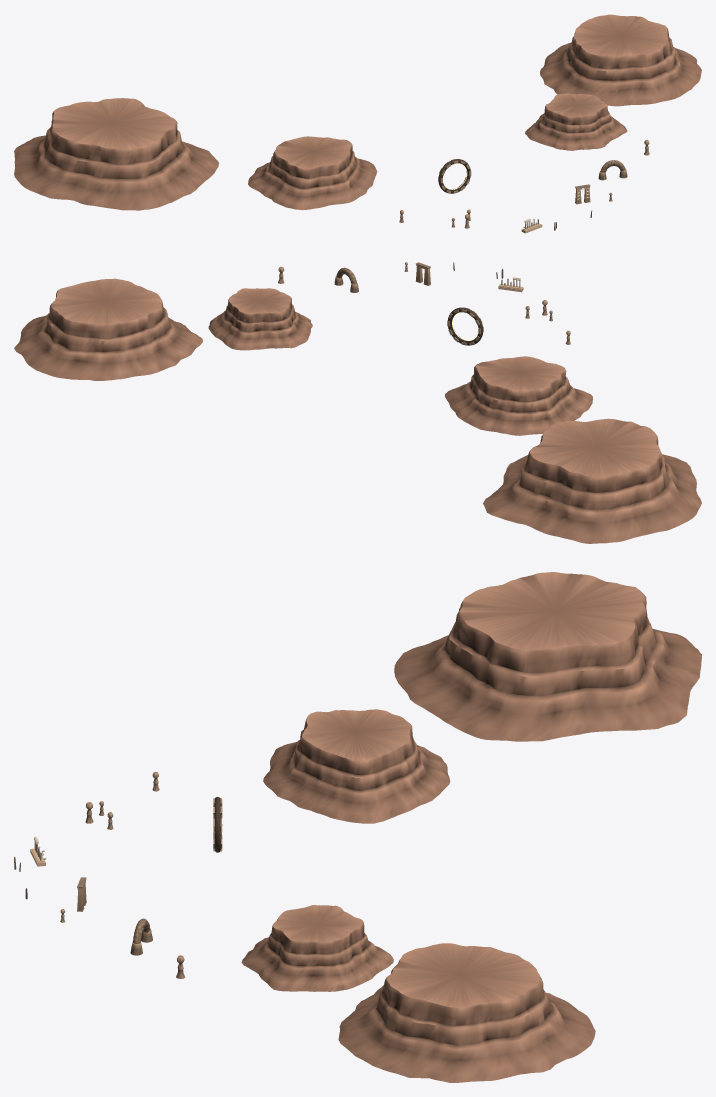
The model's file is desert.glb.
The picture shows the model from 3 angles, top to bottom: view 1: azimuth 30°, elevation 25°; view 2: azimuth 150°, elevation 25°; view 3: azimuth 270°, elevation 25°; orthographic projection. The views are drawn at different scales.
Parts seen in each view (by area): view 1: mesa_d, mesa_c, mesa_a, mesa_b, ring_gate; view 2: mesa_d, mesa_c, mesa_a, mesa_b, ring_gate; view 3: mesa_d, mesa_c, mesa_a, mesa_b.
Part boxes in pixels (left/top/right/bottom): mesa_d: left=14, top=98, right=218, bottom=210; mesa_c: left=540, top=14, right=701, bottom=106; mesa_a: left=248, top=136, right=377, bottom=210; mesa_b: left=525, top=93, right=627, bottom=150; ring_gate: left=438, top=159, right=471, bottom=193; mesa_d: left=483, top=418, right=701, bottom=543; mesa_c: left=14, top=278, right=202, bottom=380; mesa_a: left=445, top=356, right=592, bottom=435; mesa_b: left=208, top=288, right=312, bottom=350; ring_gate: left=447, top=307, right=483, bottom=345; mesa_d: left=394, top=572, right=701, bottom=741; mesa_c: left=338, top=943, right=595, bottom=1082; mesa_a: left=263, top=709, right=450, bottom=823; mesa_b: left=241, top=905, right=393, bottom=991.
Bounding box in the file's own units: 1171 × 79.89 × 724.
